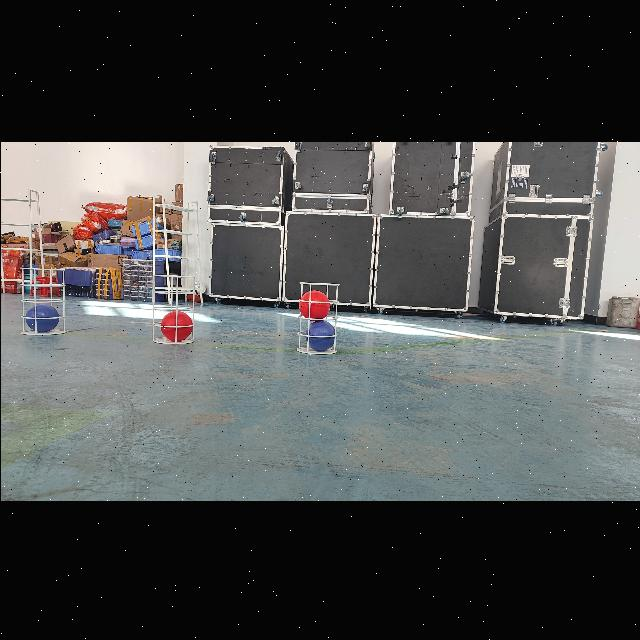B: (23, 303, 59, 331), (304, 318, 334, 349)
R: (158, 310, 192, 340), (298, 289, 328, 319)
S: (148, 270, 200, 346), (289, 280, 339, 354), (18, 263, 68, 335)
